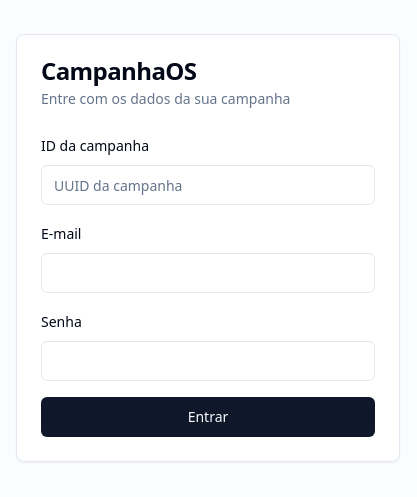
Test case: LoginPage › mostra a mensagem de erro retornada pela API quando o login falha
The image size is (417, 497).
Type "tenant-123" into the field labelled "ID da campanha".
click(208, 185); type("tenant-123")  # box [41,165,375,205]
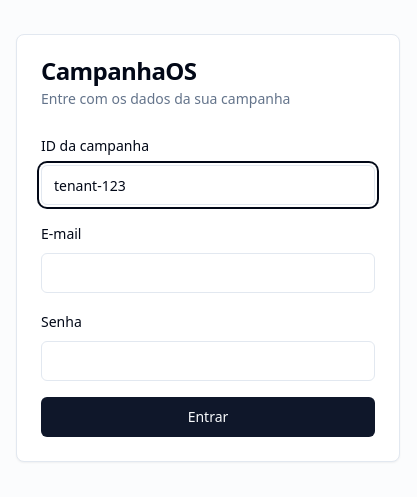
Type "deco@teste.dev" into the field labelled "E-mail".
click(208, 273); type("deco@teste.dev")  # box [41,253,375,293]
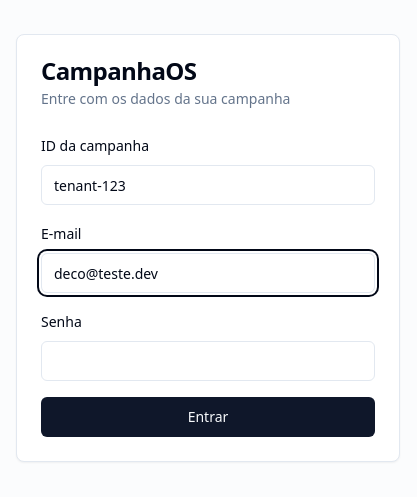
Type "senha_errada" into the password field labelled "Senha".
click(208, 361); type("senha_errada")  # box [41,341,375,381]
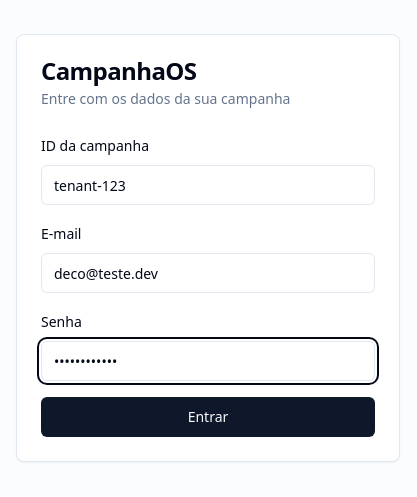
Click the button "Entrar".
click(208, 417)  # box [41,397,375,437]
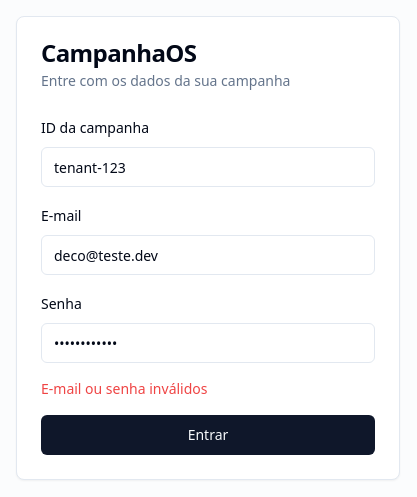
Check: the text "E-mail ou senha inválidos" is shown, box [41,379,208,398]
